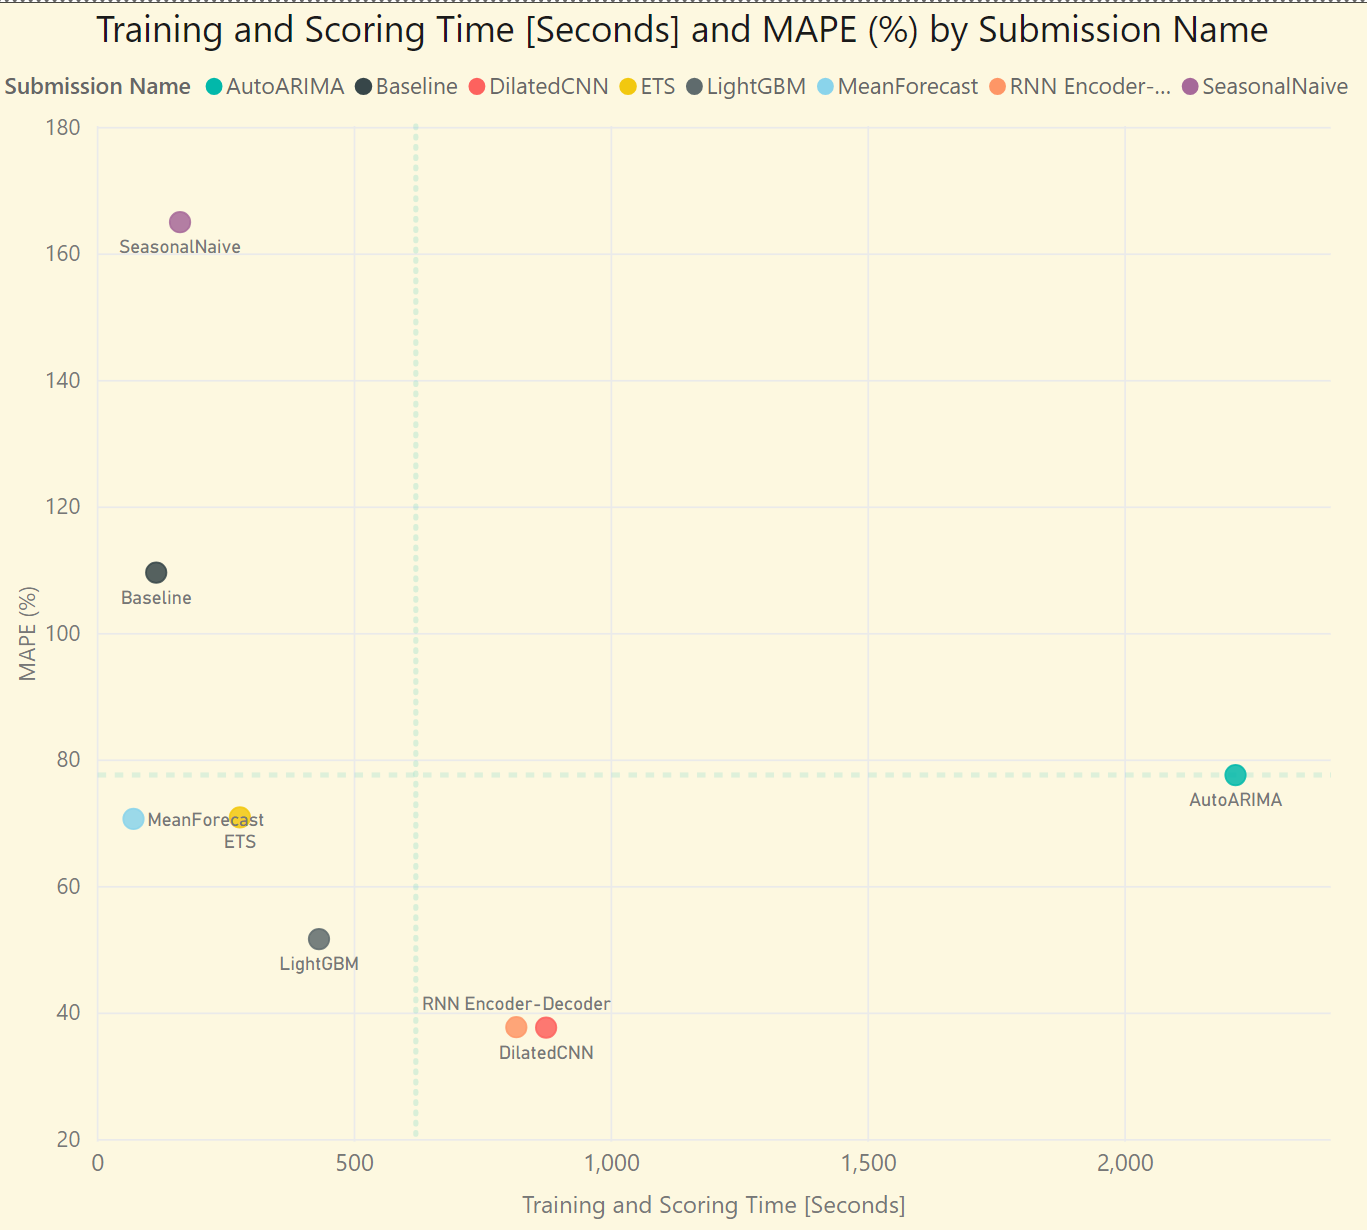

This screenshot's page, from the dashboard's own definition file:
{"tool":"powerbi","page":{"name":"Time - Retail","canvas":[1280,720],"ordinal":3},"visuals":[{"type":"scatterChart","fields":{"X":["Sum(Table1.Training and Scoring Time)"],"Y":["Sum(Table1.MAPE (%))"],"Series":["Table1.Submission Name"]},"box":[224.2,0,803.5,720.6],"z":1}]}

Visuals, with their boxes on the page's 1280x720 design canvas (x1, y1, x2, y2). These are canvas units, not pixel positions in the 1367x1230 screenshot, which may show the page scaled, cropped or inside an application window:
scatterChart - Sum(Table1.Training and Scoring Time) x Sum(Table1.MAPE (%)): pyautogui.locateOnScreen(224, 0, 1028, 721)
